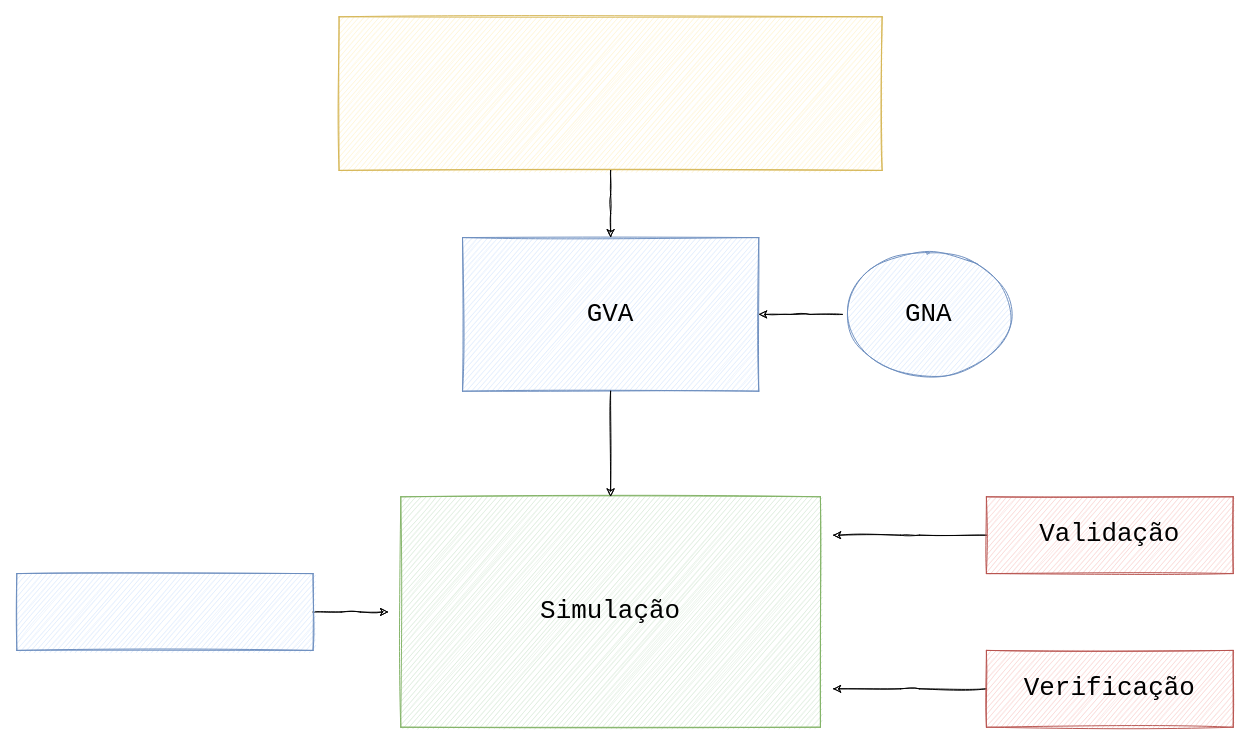
Some shapes in this 1251 by 744 pixel diagram are drawn without their labels. The shapes that lost their labels are listed below. From the top down, each one's box as (x1, y1, x2, y2) in pixels, then its label:
(338, 16, 882, 170): Sistema Computacional
(16, 573, 313, 650): Teoria das Filas
